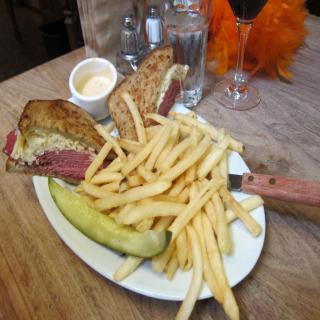French fries: (61, 104, 255, 291)
